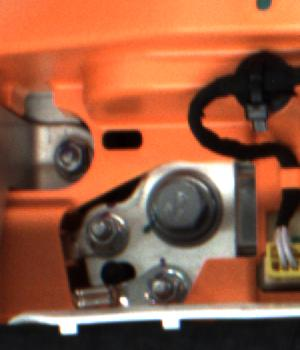nut_b: (143, 165, 222, 241)
